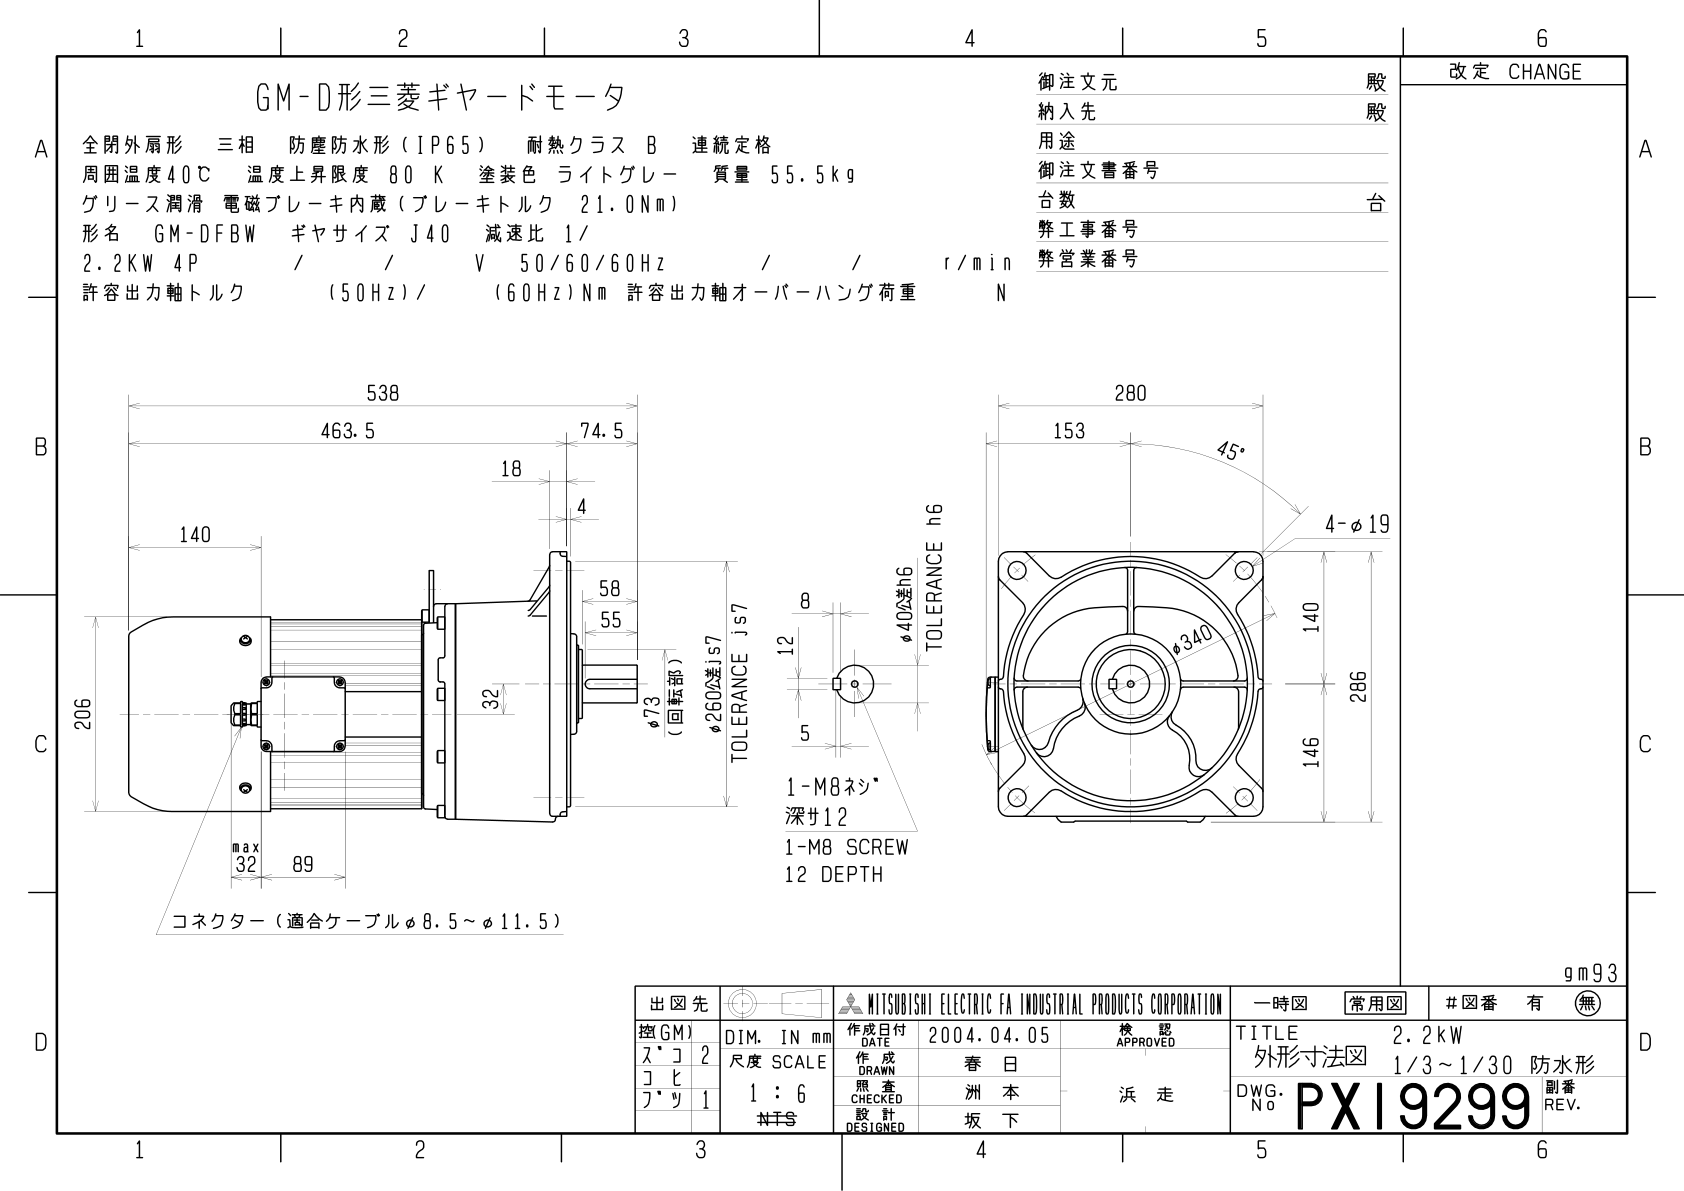GM_D_IP65_三相_フランジ: (63, 347, 1399, 938)
